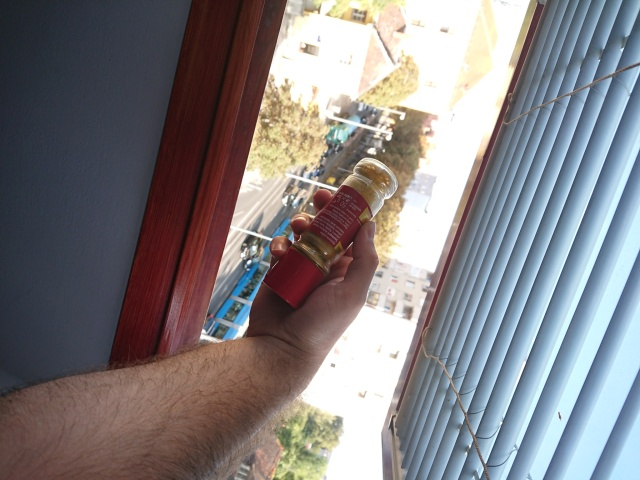Kotanyi Curry Spices Mix 70g: (260, 155, 400, 311)
